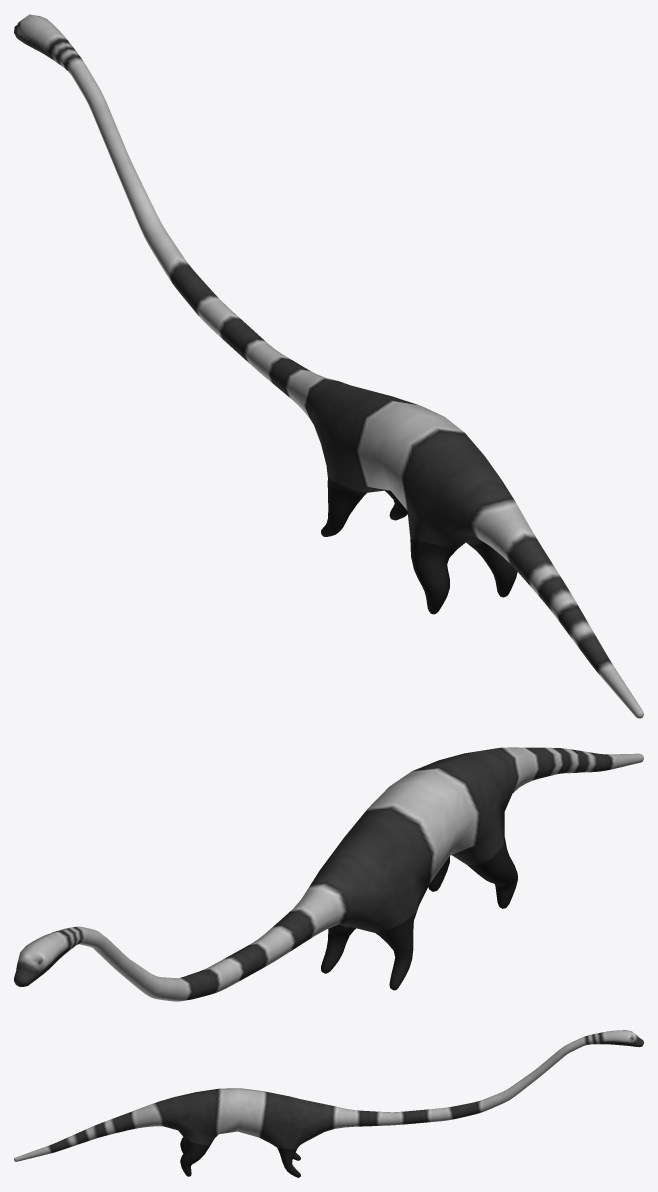
Rendered from tanystropheus.obj.
The picture shows the model from 3 angles, top to bottom: view 1: azimuth 30°, elevation 25°; view 2: azimuth 150°, elevation 25°; view 3: azimuth 270°, elevation 25°; orthographic projection. The views are drawn at different scales.
Parts seen in each view (by area): view 1: tanystropheus; view 2: tanystropheus; view 3: tanystropheus.
Boxes of the visible parts, bbox=[...] form: tanystropheus: bbox=[14, 14, 643, 718]; tanystropheus: bbox=[14, 747, 643, 1001]; tanystropheus: bbox=[14, 1030, 643, 1177].
Size of the model in its own units: 0.5597 by 1.57 by 6.47.
Materials: 1 (1 with a texture image).
